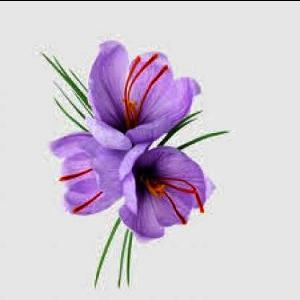Saffron: (86, 39, 200, 150), (120, 140, 219, 240), (48, 129, 126, 218)
